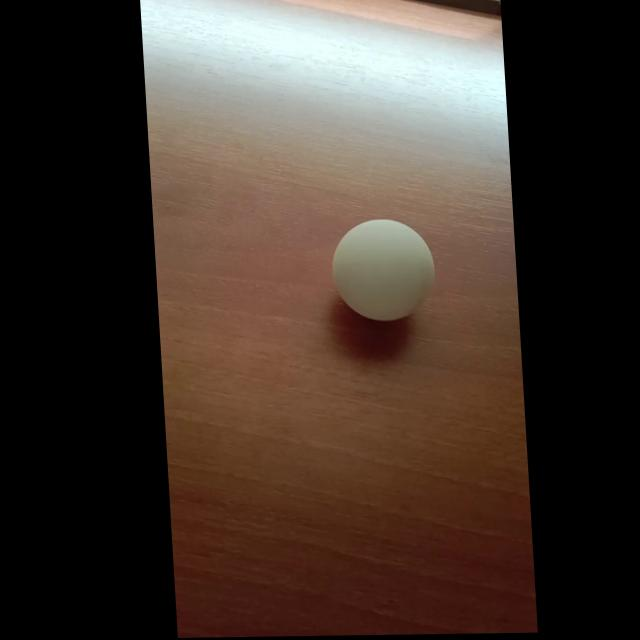white ball: (328, 217, 437, 322)
